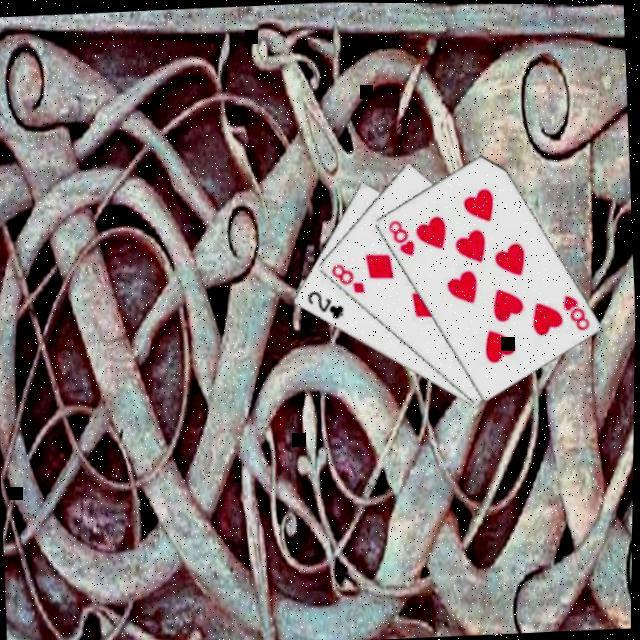2C: (303, 287, 347, 323)
8D: (327, 260, 369, 298)
8H: (383, 216, 417, 260), (559, 290, 593, 334)
